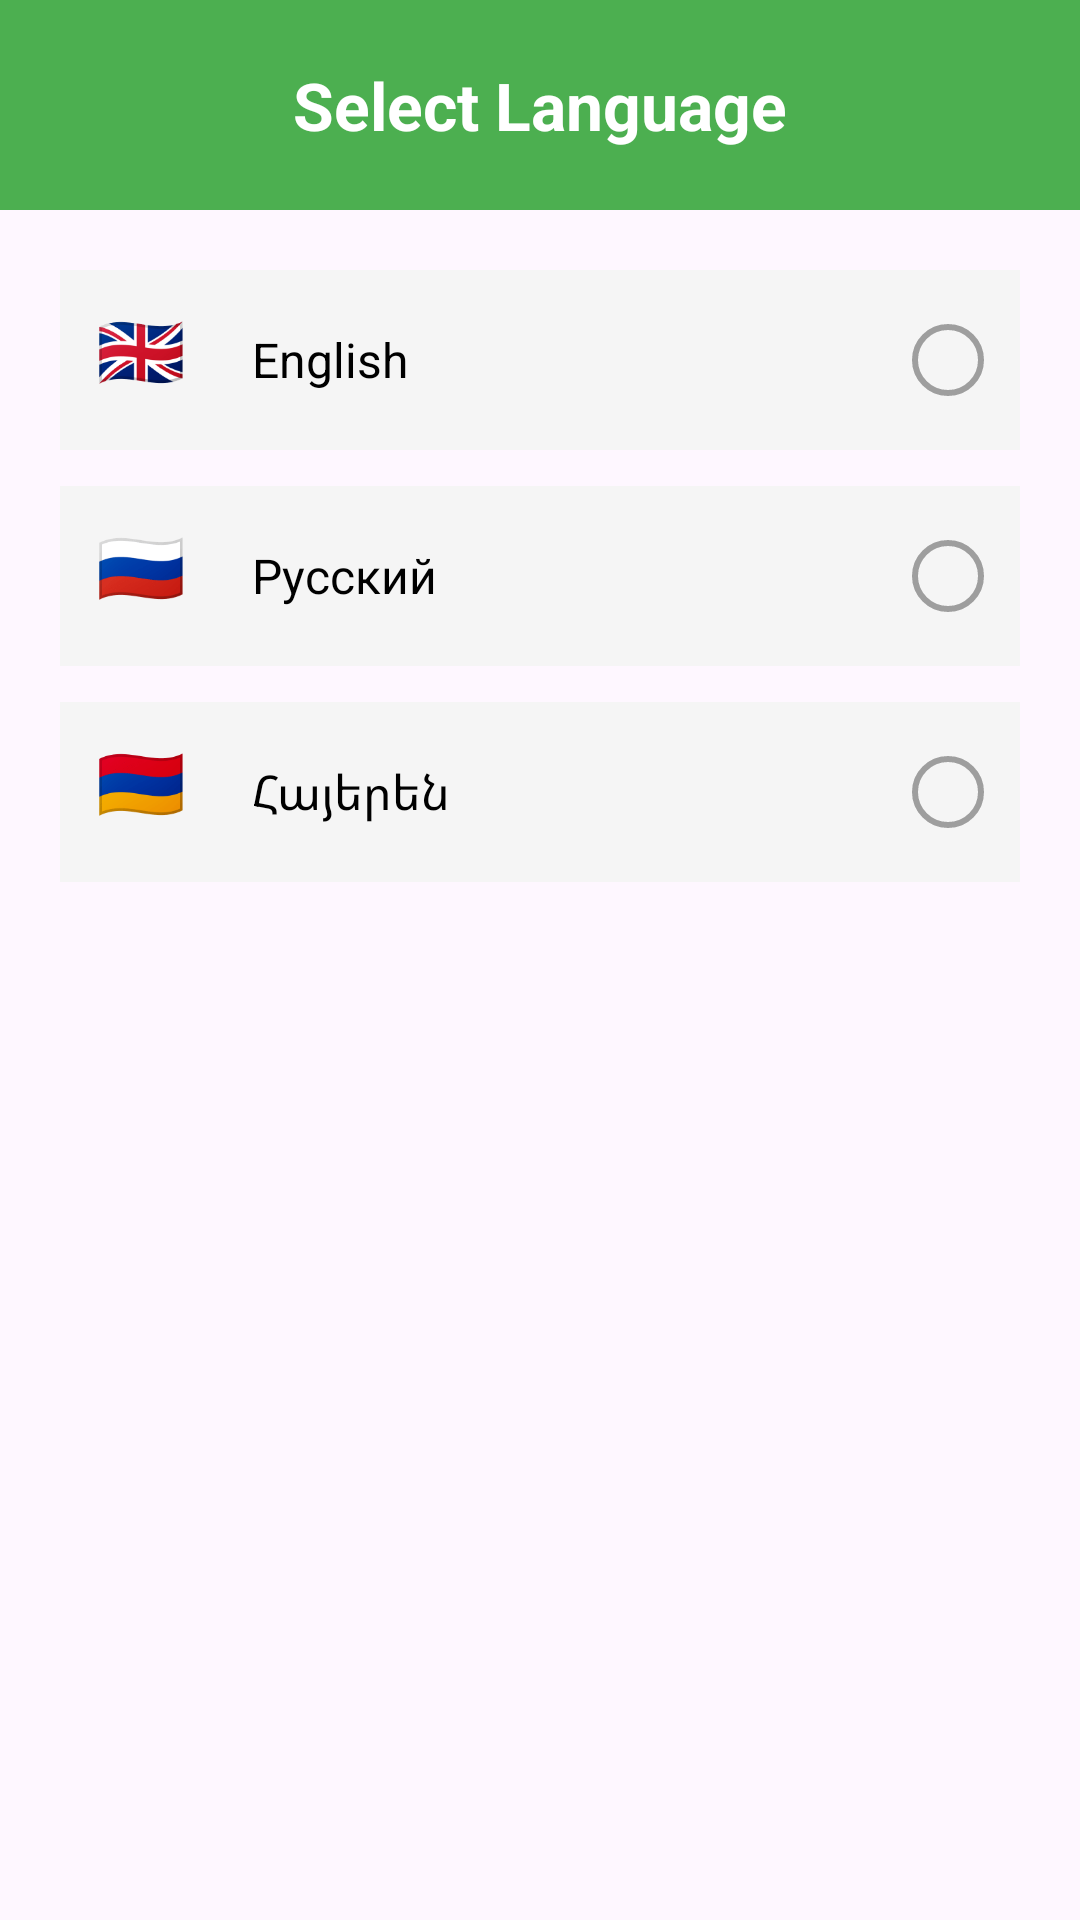

Point at icon controls on the screen. Image size 1080×1920, points as point (x, y).
radio circle: point (948, 360), point (948, 576), point (948, 792)
